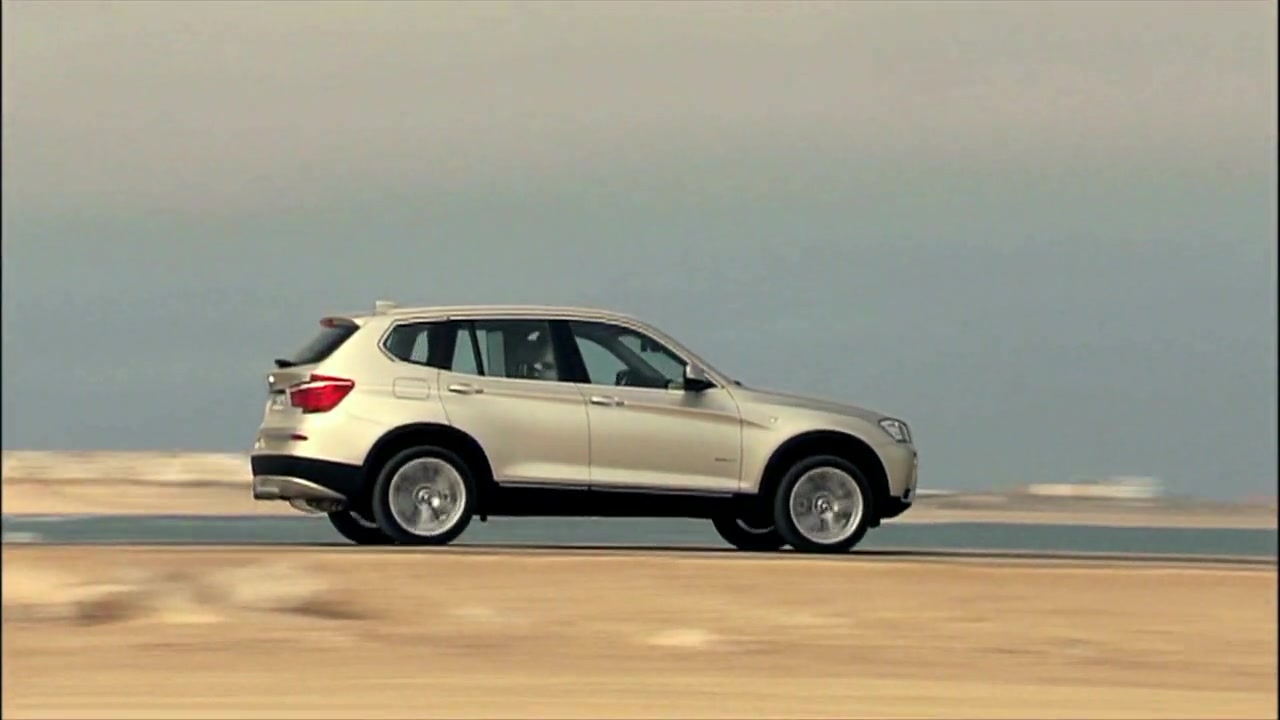car: (250, 301, 922, 556)
